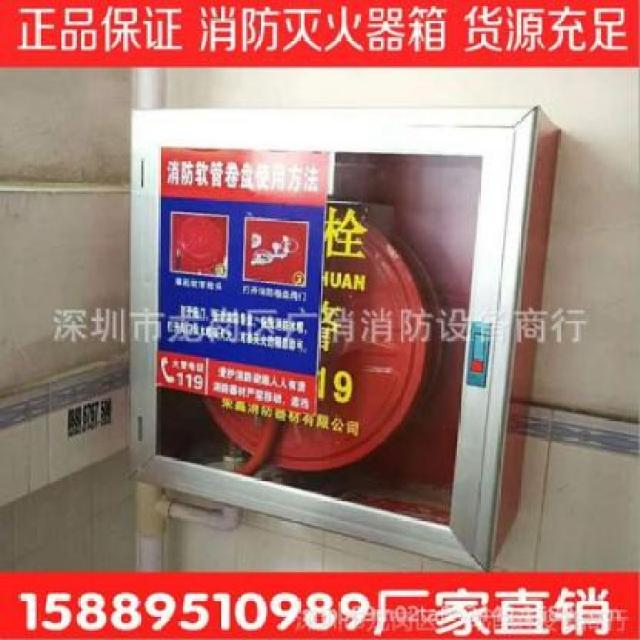firehydrant: (125, 99, 566, 572)
